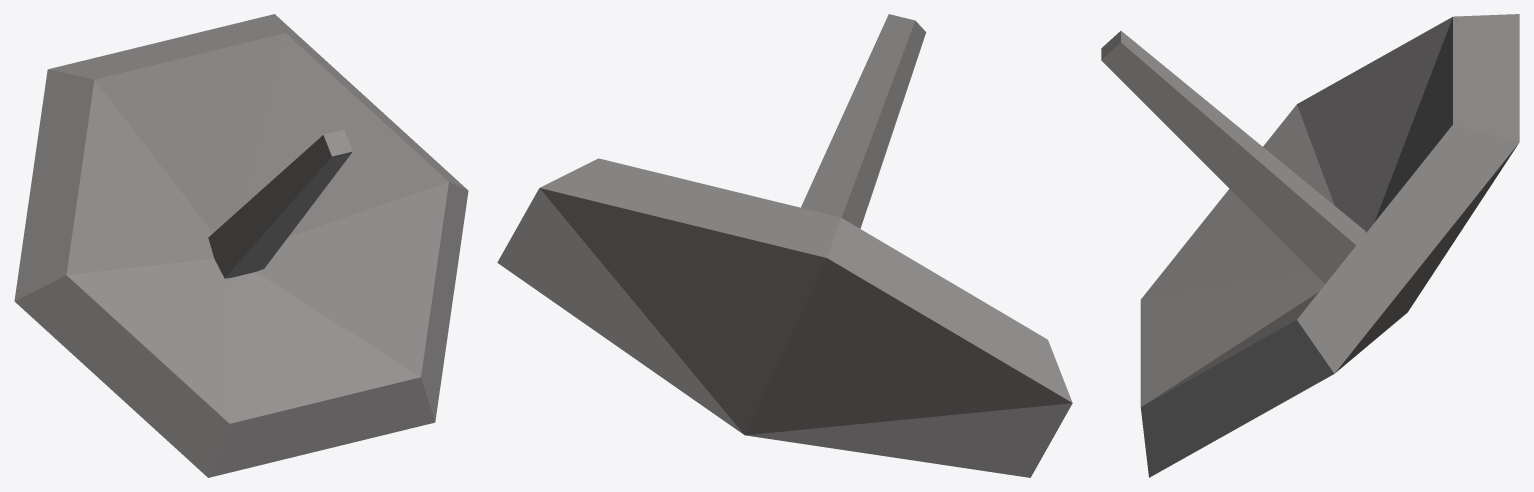
The model's file is SM_Prop_SatDish_01.fbx.
3 renders of one model, left to right at view 1: azimuth 30°, elevation 25°; view 2: azimuth 150°, elevation 25°; view 3: azimuth 270°, elevation 25°, orthographic. The views are drawn at different scales.
Parts seen in each view (by area): view 1: SM_Prop_SatDish_01; view 2: SM_Prop_SatDish_01; view 3: SM_Prop_SatDish_01.
Part boxes in pixels (x1,y1,x2,y2): SM_Prop_SatDish_01: (14,14,468,477); SM_Prop_SatDish_01: (497,14,1072,477); SM_Prop_SatDish_01: (1101,14,1519,477).
Size of the model in its own units: 21.54 by 14.82 by 14.89.
